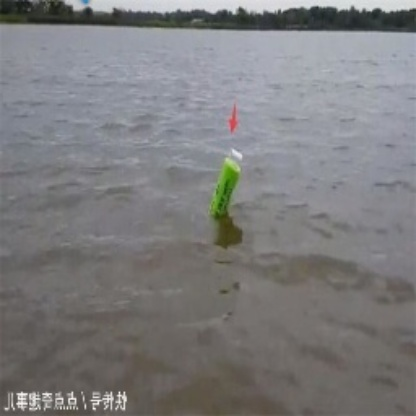bottle: (203, 148, 251, 222)
